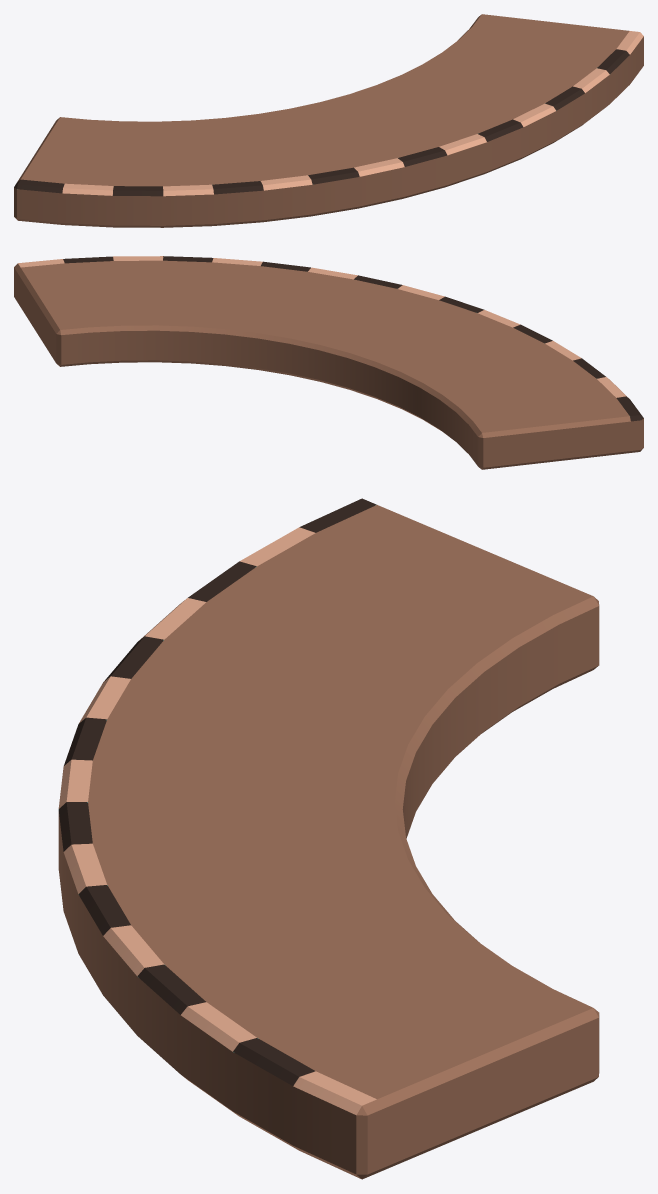
File: SM_Platform01.fbx
The picture shows the model from 3 angles, top to bottom: view 1: azimuth 30°, elevation 25°; view 2: azimuth 150°, elevation 25°; view 3: azimuth 270°, elevation 25°; orthographic projection. The views are drawn at different scales.
Parts seen in each view (by area): view 1: Stage2; view 2: Stage2; view 3: Stage2.
Boxes of the visible parts, <box> form: Stage2: <box>14,14,643,227</box>; Stage2: <box>14,256,643,469</box>; Stage2: <box>58,498,599,1179</box>.
Bounding box in the file's own units: 629 × 35.34 × 235.
1 material, 1 textured.
